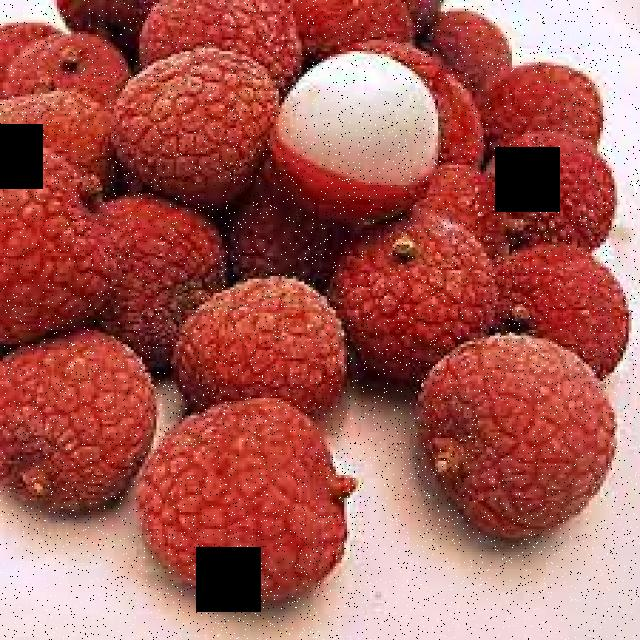lychee: (10, 0, 590, 506)
